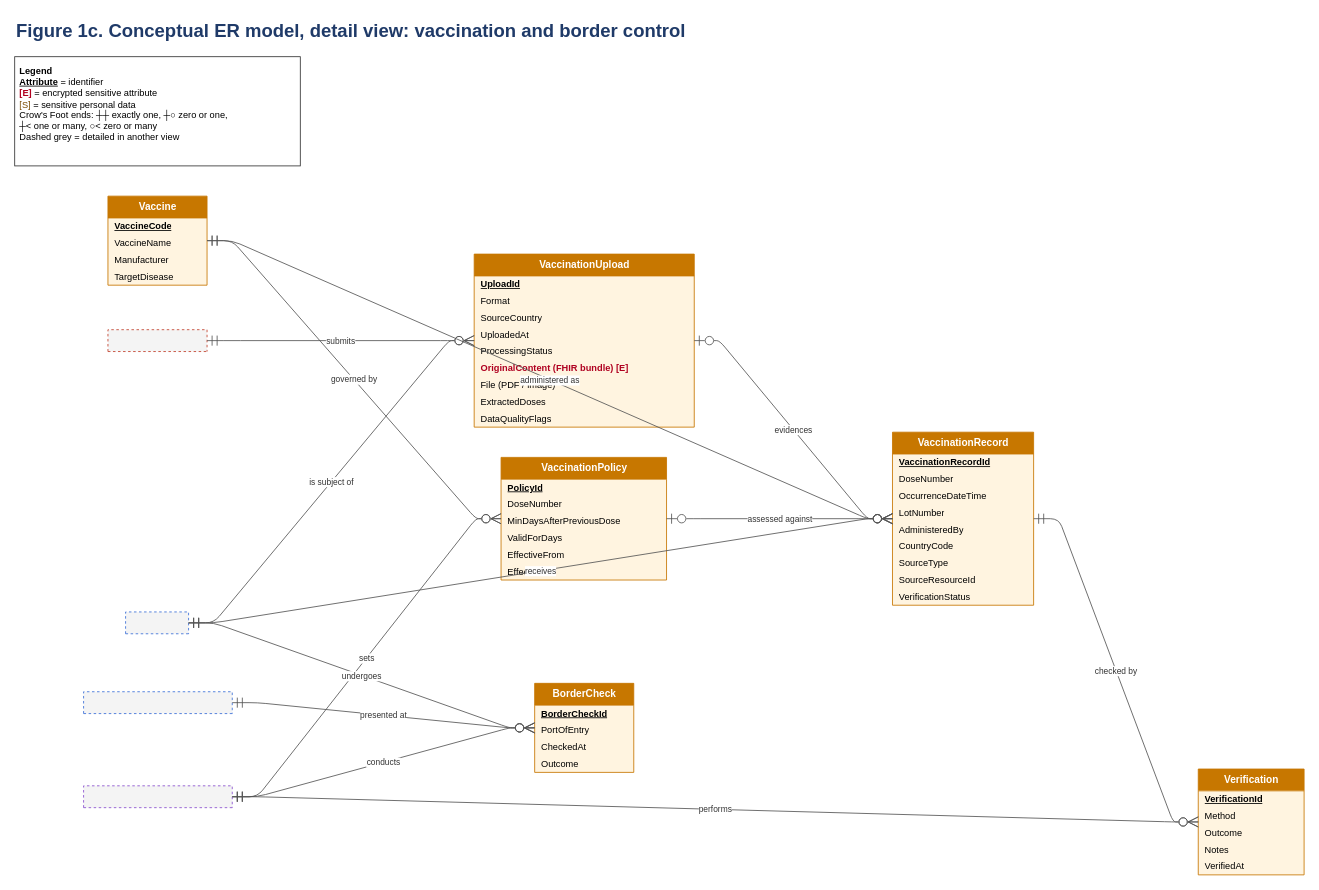
The diagram is 1319 pixels wide and 890 high, and some of its shapes have lost their labels. The shapes that lost their labels are listed below. From the top down, each one's centre as x and y in pixels, then its label:
the point at 157,340: UserAccount
the point at 157,622: Person
the point at 157,702: NationalIdentifier
the point at 157,796: GovernmentOfficial
